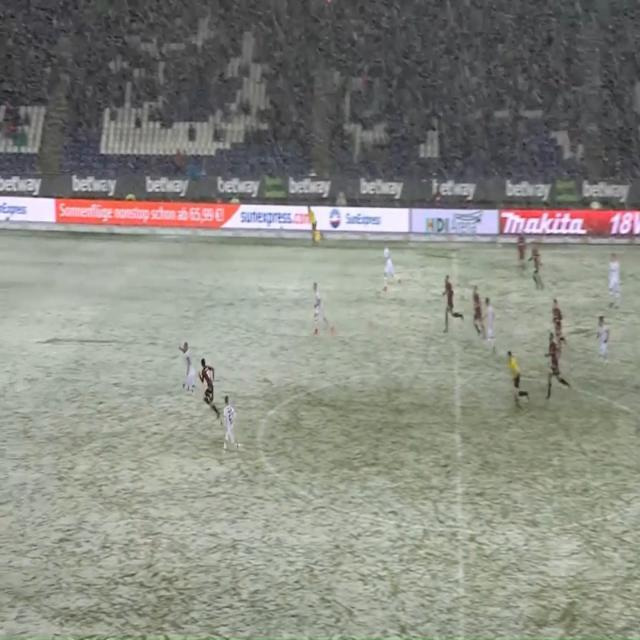player: (542, 325, 574, 412), (219, 379, 246, 473), (305, 271, 338, 347), (374, 236, 410, 304), (195, 341, 222, 427), (437, 271, 467, 346), (172, 329, 198, 409), (600, 250, 628, 314), (592, 299, 613, 378), (480, 287, 501, 365), (465, 281, 485, 353), (549, 287, 567, 364), (527, 226, 545, 300), (511, 214, 527, 289)
referee: (504, 340, 533, 415), (300, 196, 327, 256)
